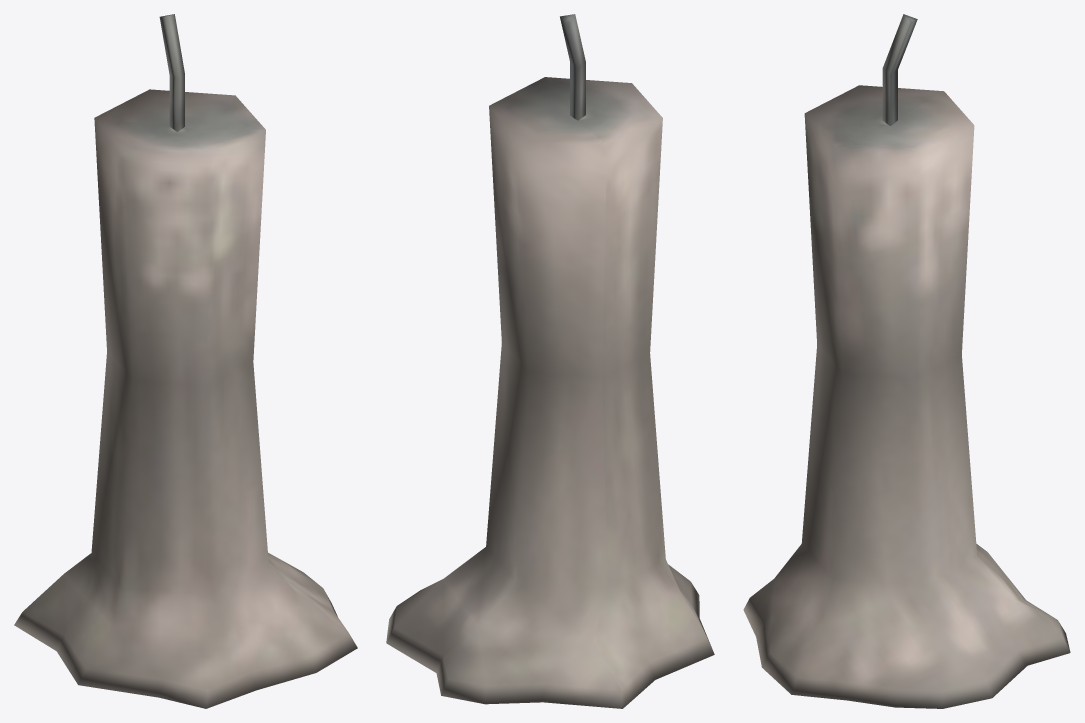
Rendered from Stage_DiXiaCheng_LaZhu01.FBX.
3 renders of one model, left to right at view 1: azimuth 30°, elevation 25°; view 2: azimuth 150°, elevation 25°; view 3: azimuth 270°, elevation 25°, orthographic. The views are drawn at different scales.
Parts seen in each view (by area): view 1: Stage_DiXiaCheng_LaZhu01; view 2: Stage_DiXiaCheng_LaZhu01; view 3: Stage_DiXiaCheng_LaZhu01.
Part boxes in pixels (left/top/right/bottom): Stage_DiXiaCheng_LaZhu01: left=14, top=14, right=357, bottom=708; Stage_DiXiaCheng_LaZhu01: left=386, top=14, right=714, bottom=708; Stage_DiXiaCheng_LaZhu01: left=743, top=14, right=1070, bottom=708.
Size of the model in its own units: 23.43 by 50.35 by 24.24.
